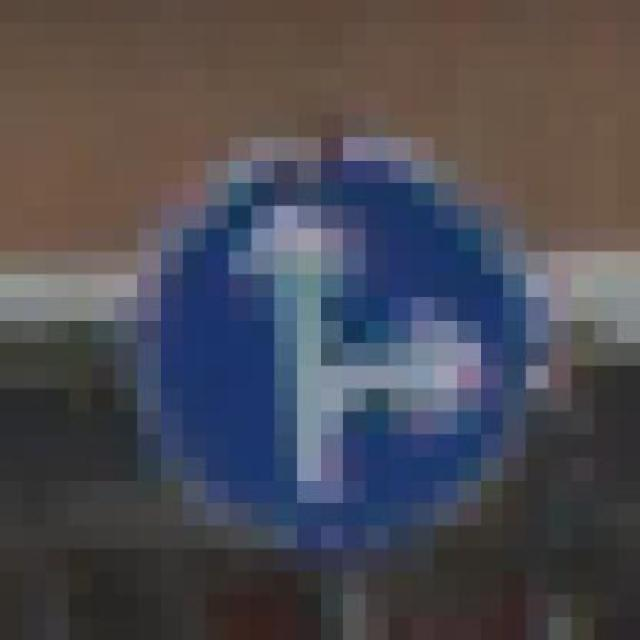Go Straight or Turn Right: (104, 129, 584, 565)
